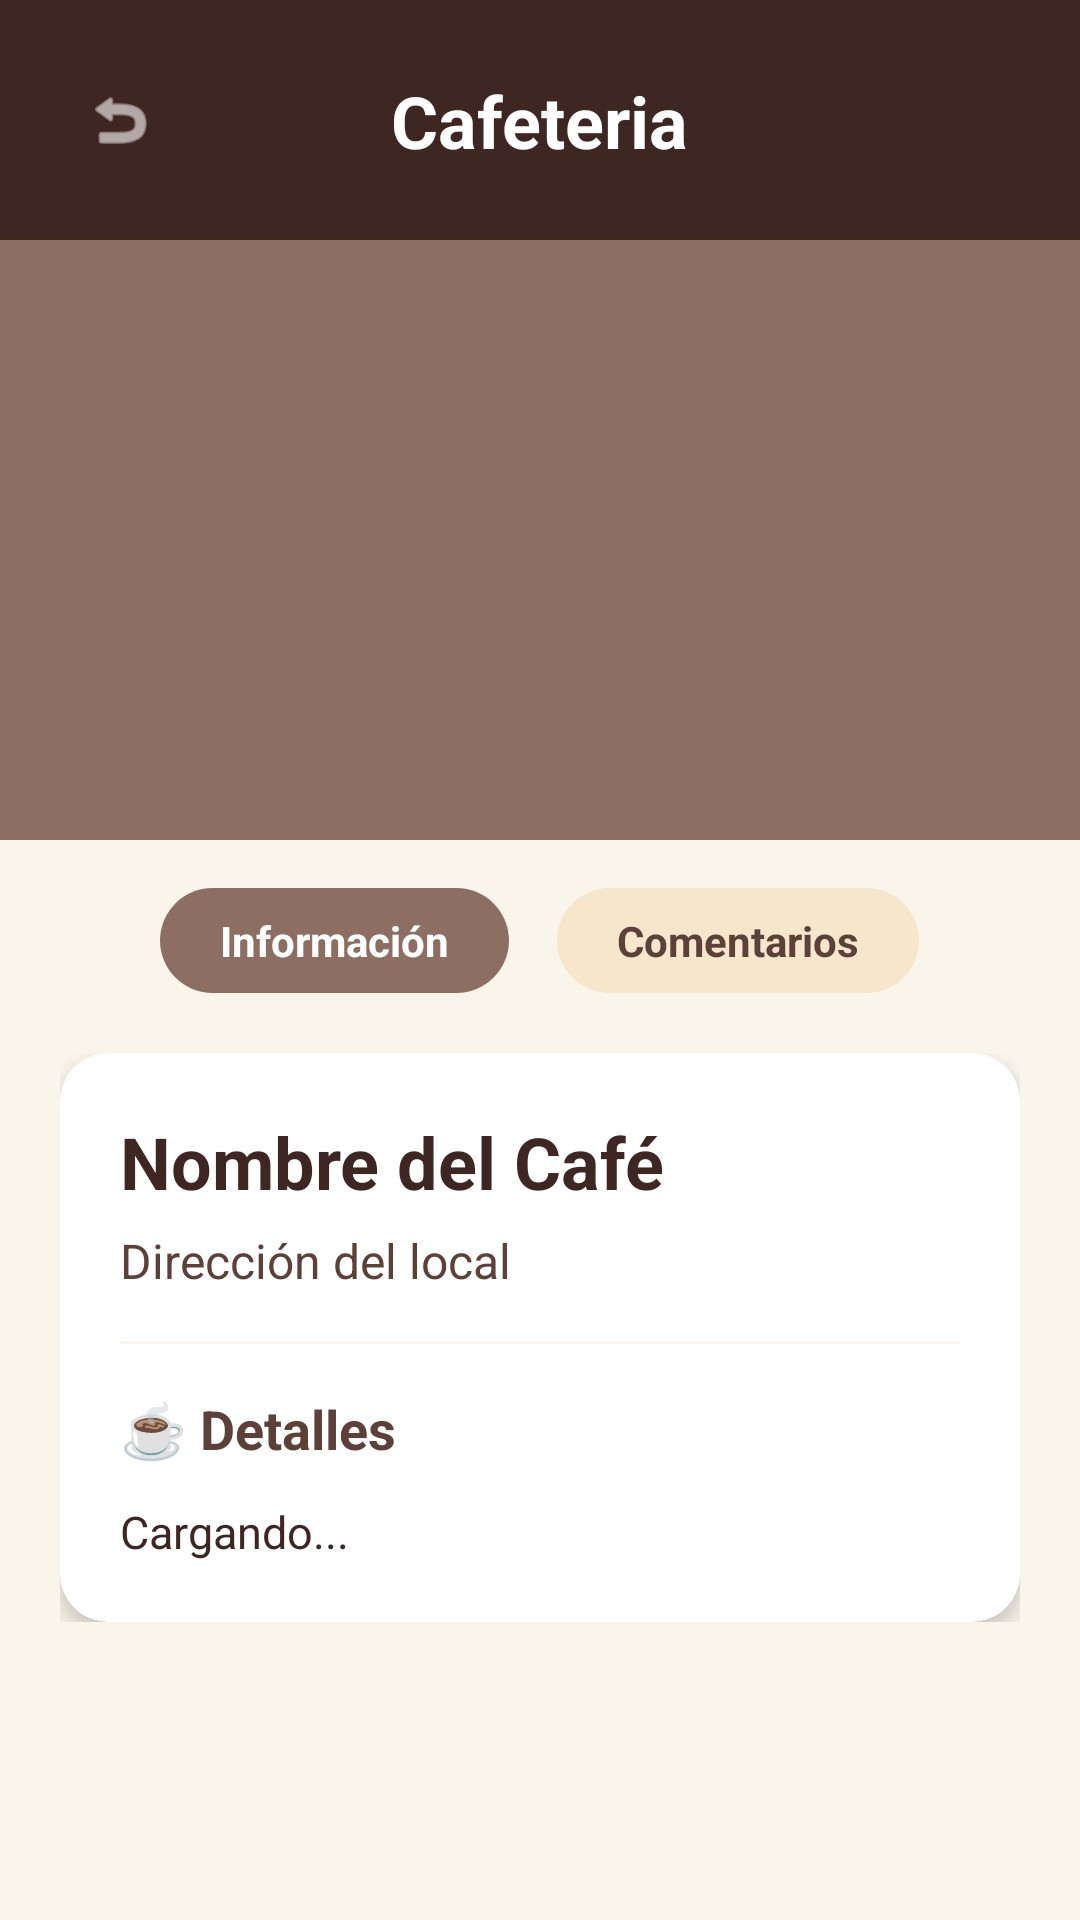

Screen size 1080w x 1920h. Icon name, then its center in pixels as [x,y]:
revert: [121,120]
